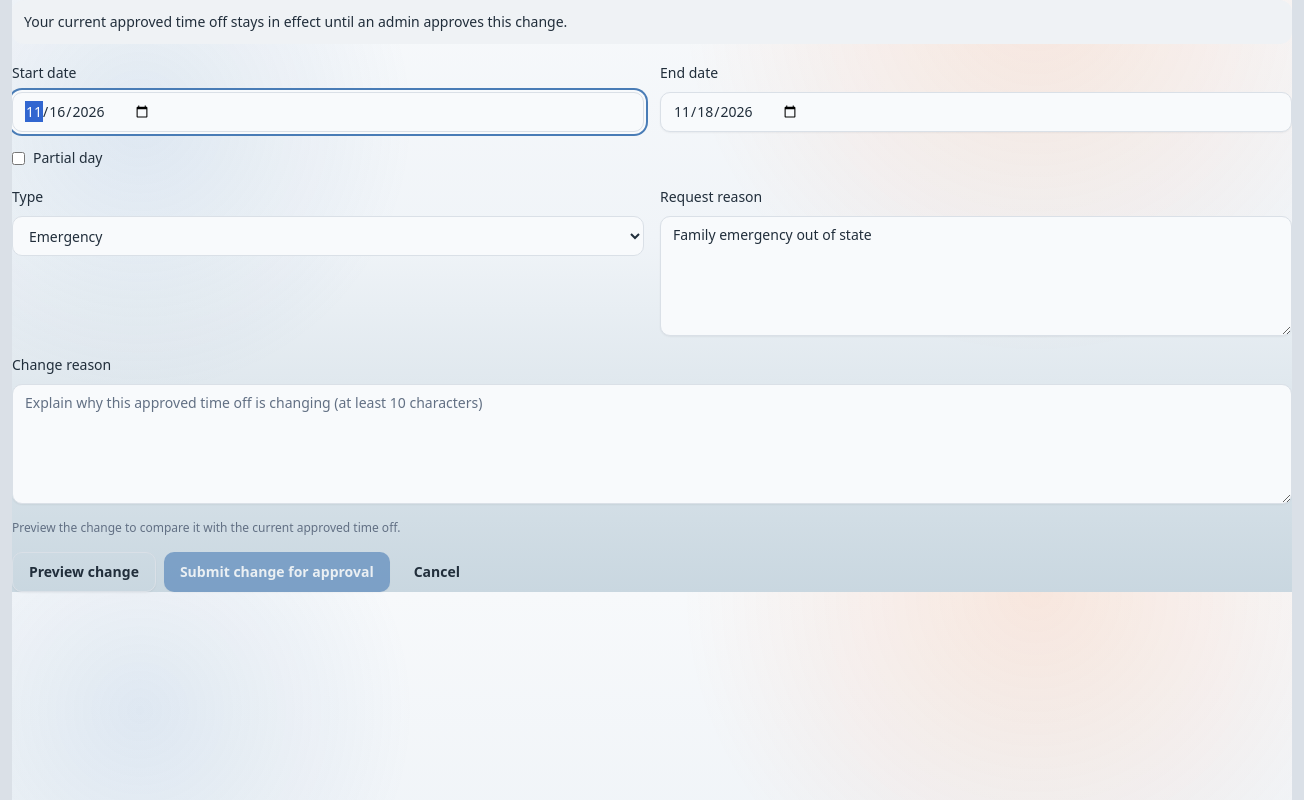
TimeOffChangeEditor › explains when a preview discovers a newer request version
Type "2026-11-19" into the date field labelled "End date" at [976, 112], box left=660, top=92, right=1292, bottom=132
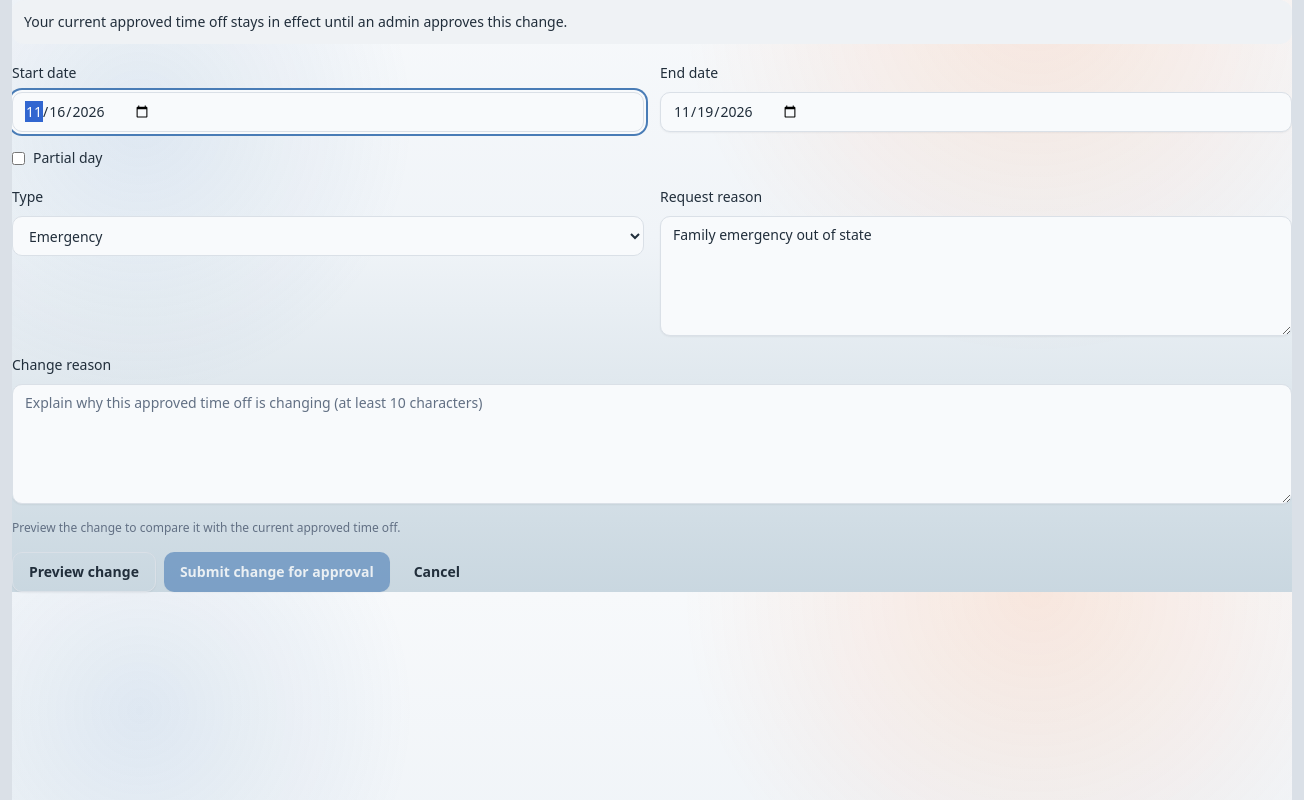
Click the button "Preview change" at [84, 572], box left=12, top=552, right=156, bottom=592
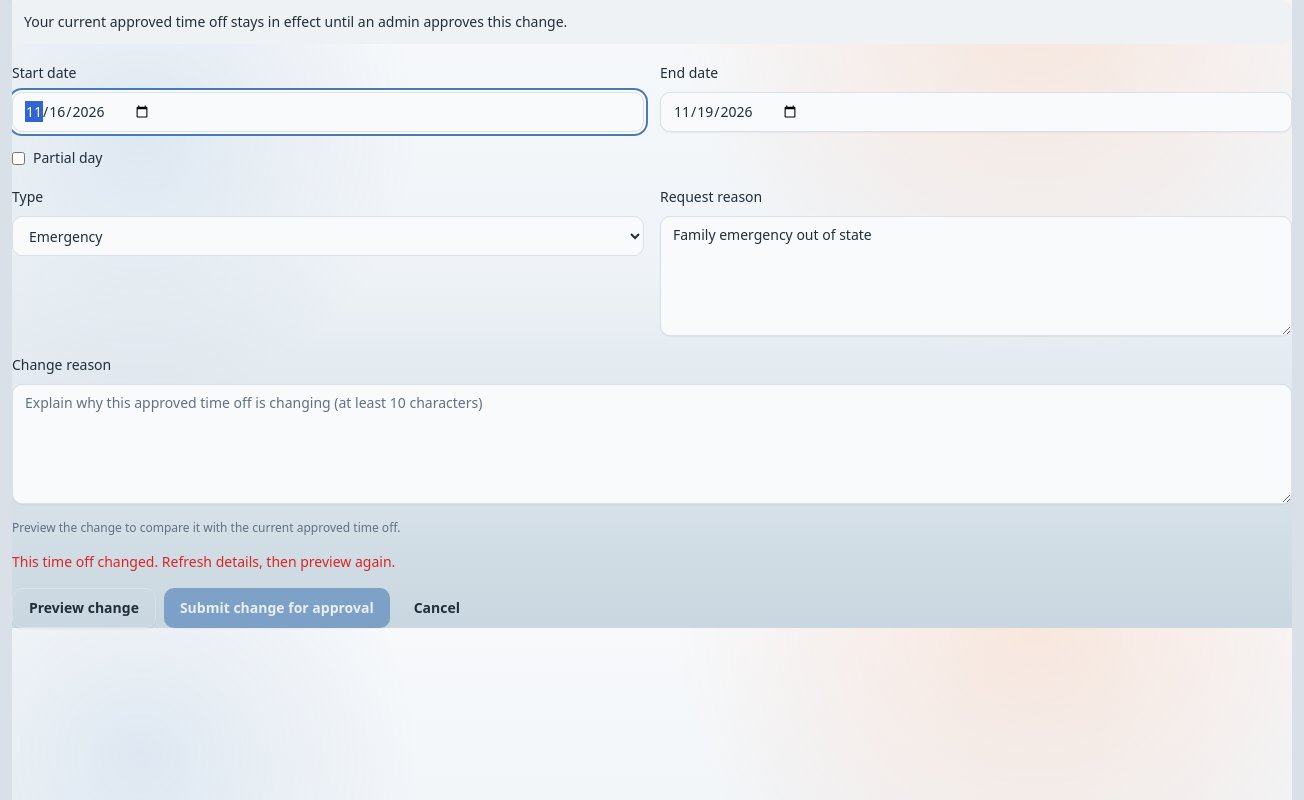
Expected: the button "Submit change for approval" is disabled, left=164, top=588, right=390, bottom=628
Result: the text "This time off changed. Refresh details, then preview again." is shown at left=12, top=552, right=395, bottom=571
